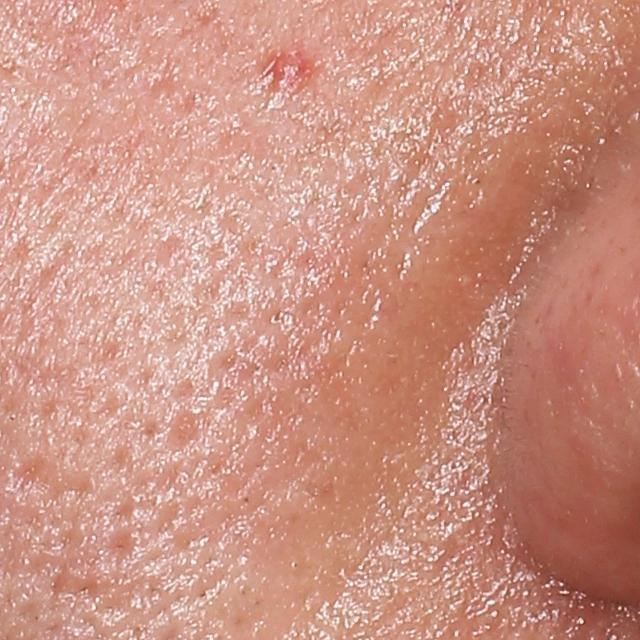atrophic_scar: (2, 454, 51, 495), (164, 408, 202, 452), (104, 525, 138, 571)
papule: (267, 44, 314, 84)
